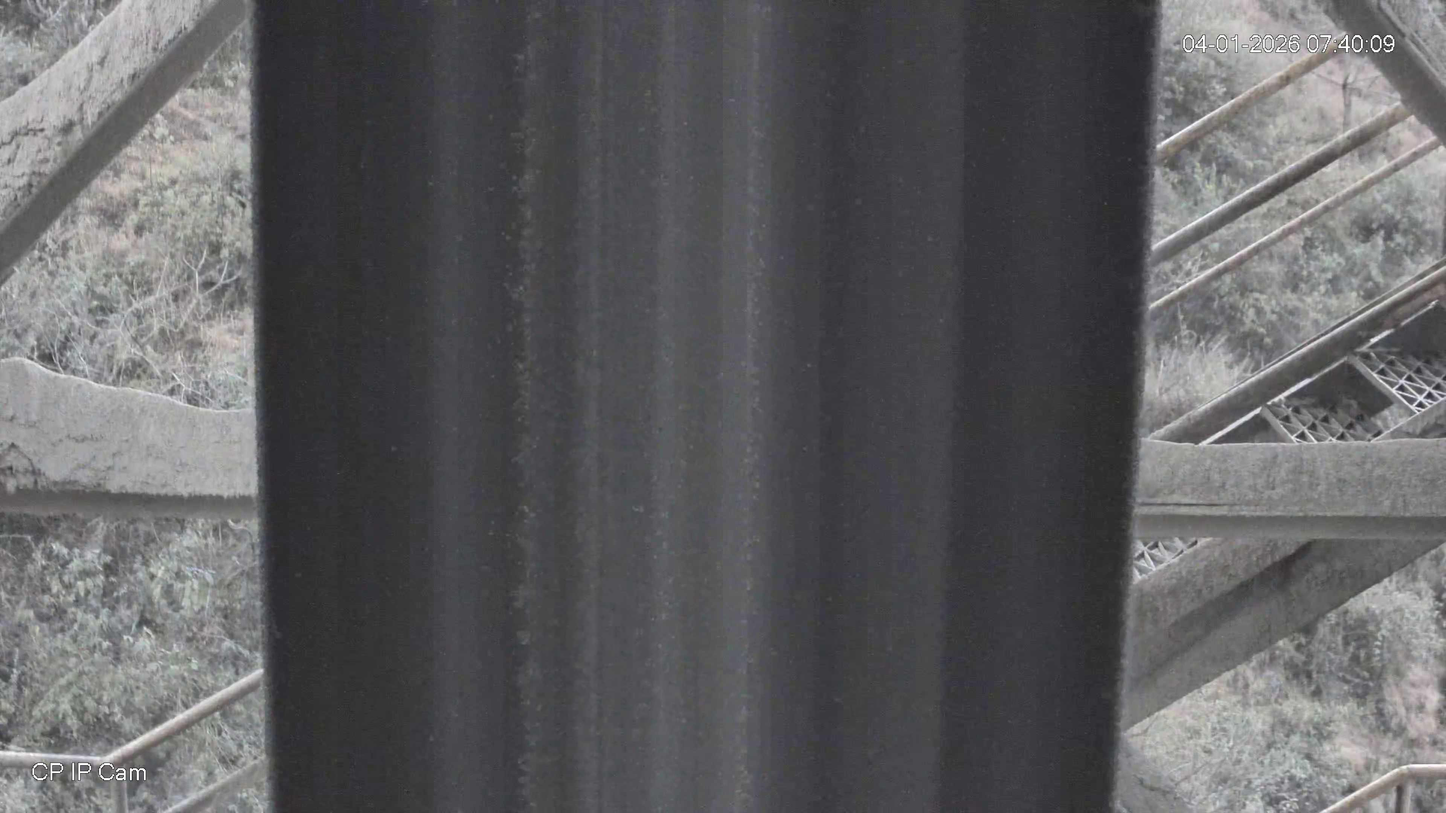belt_roi: (250, 0, 1170, 813)
